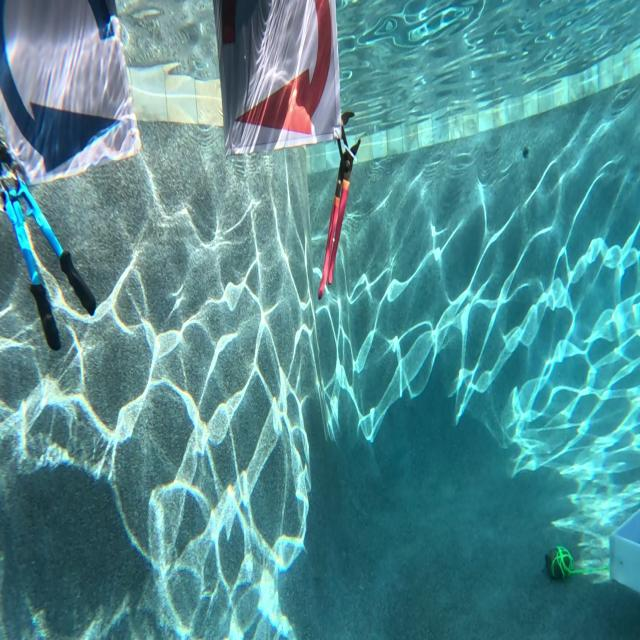blue_side: (0, 0, 129, 164)
red_side: (216, 0, 338, 144)
